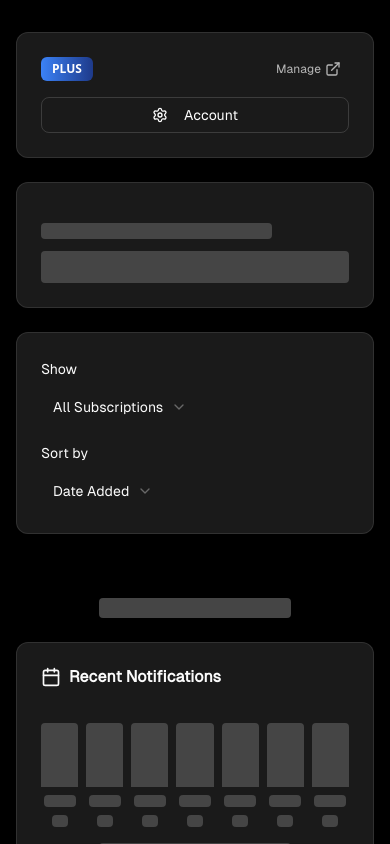
Dashboard Page › Manage Subscription Button › Loading State › disables button while loading
Expected: the text "Manage" is shown, [276,61,341,77]
Click the button "Manage": (308, 69) [268,57,349,81]
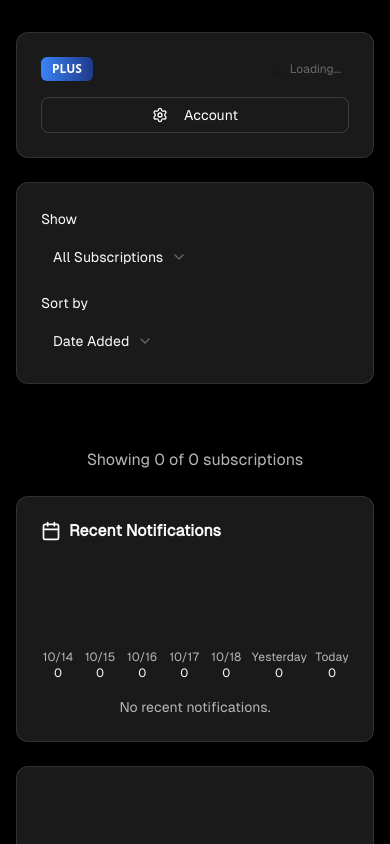
Now the button "Loading..." is disabled, box [266,57,349,81]
